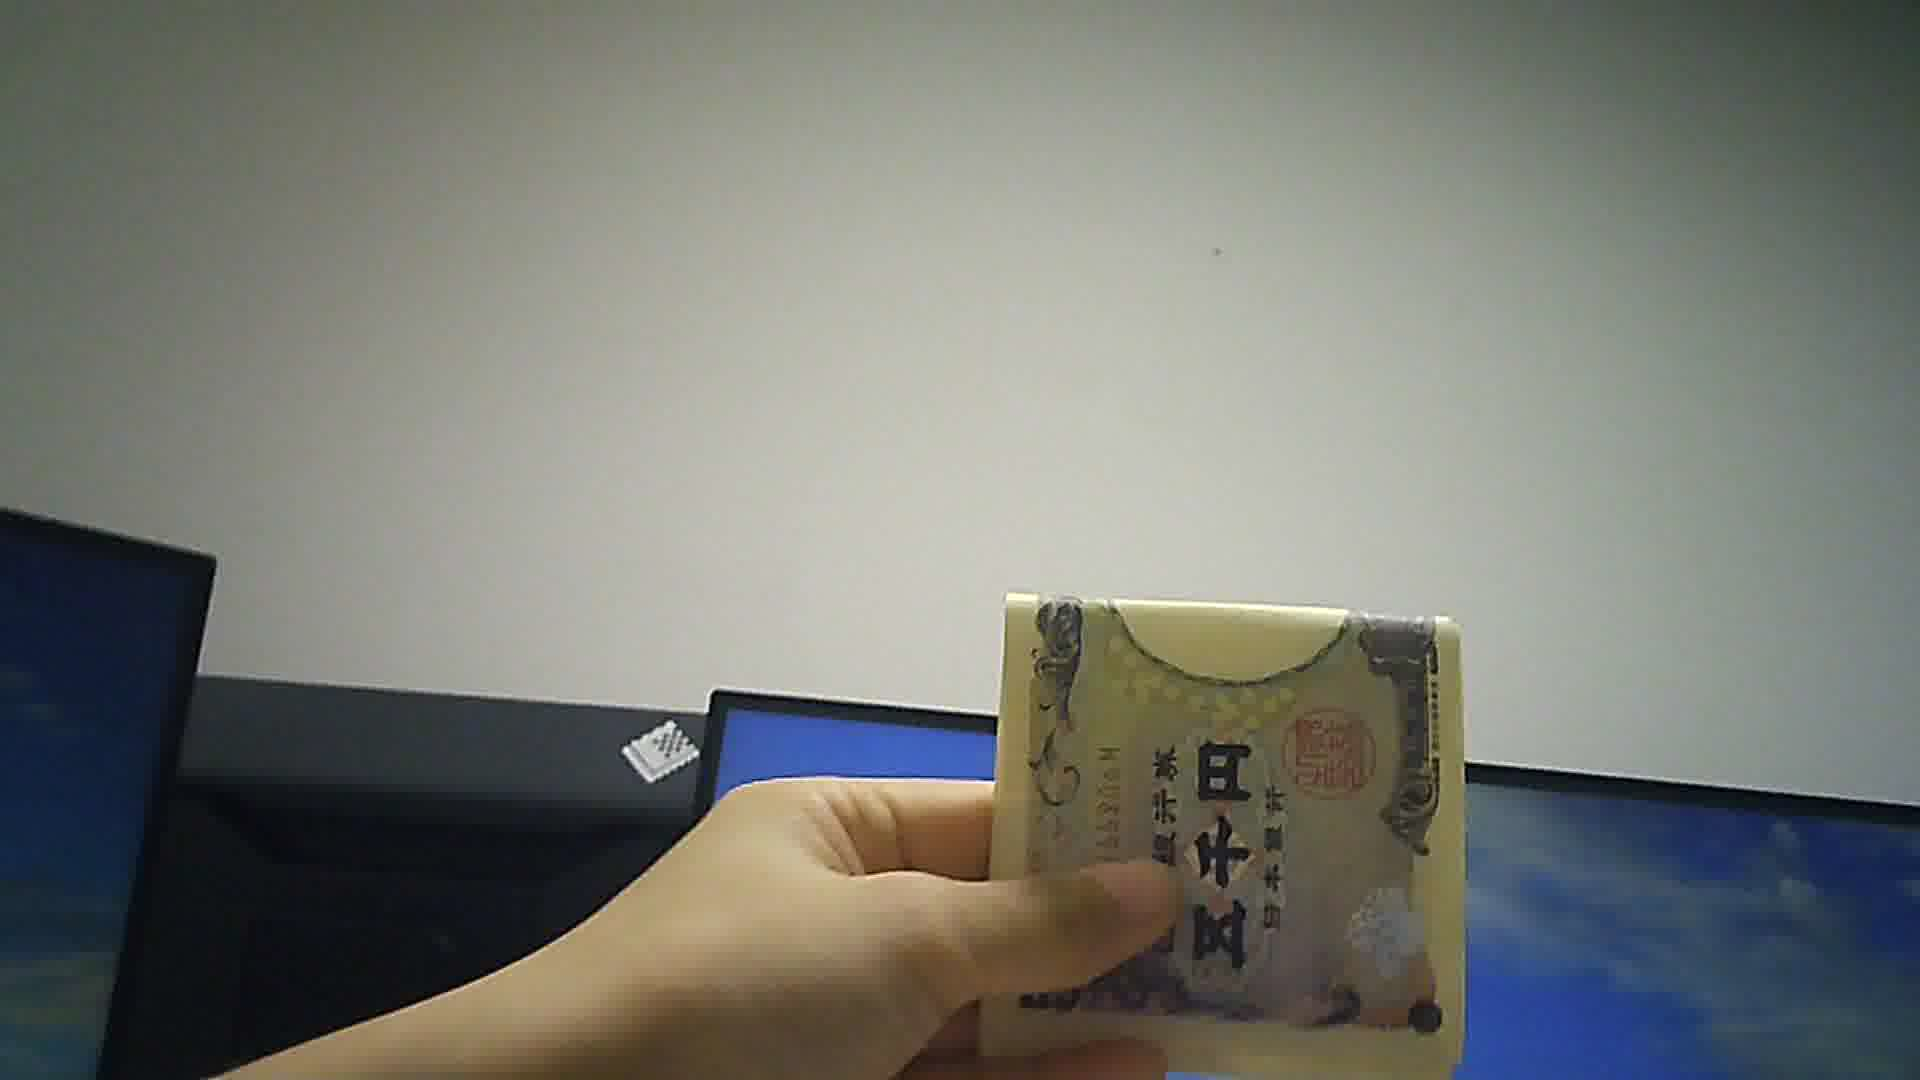5,000 Yen: (978, 564, 1491, 1073)
